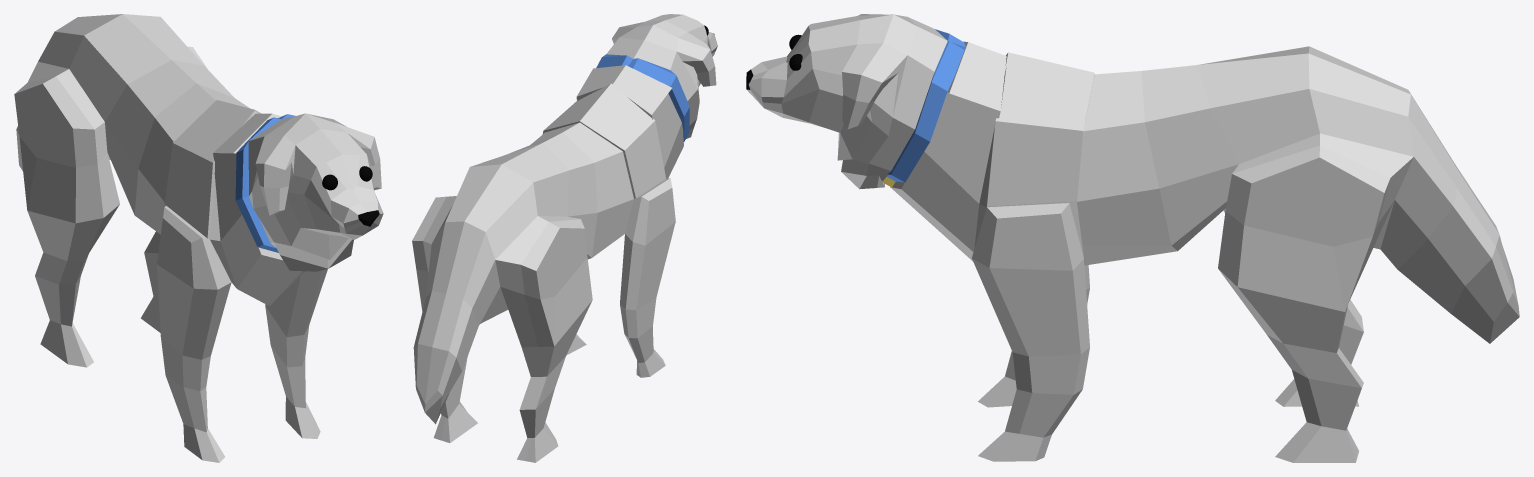
Rendered from obi.fbx.
3 views of the same model, side by side, from view 1: azimuth 30°, elevation 25°; view 2: azimuth 150°, elevation 25°; view 3: azimuth 270°, elevation 25° (orthographic). The views are drawn at different scales.
Visible parts, largest first — view 1: Plane, Sphere; view 2: Plane; view 3: Plane.
Part boxes in pixels (left/top/right/bottom): Plane: left=14, top=14, right=383, bottom=462; Sphere: left=322, top=166, right=372, bottom=190; Plane: left=412, top=14, right=717, bottom=462; Plane: left=746, top=14, right=1519, bottom=462.
Bounding box in the file's own units: 149 × 326 × 552.
